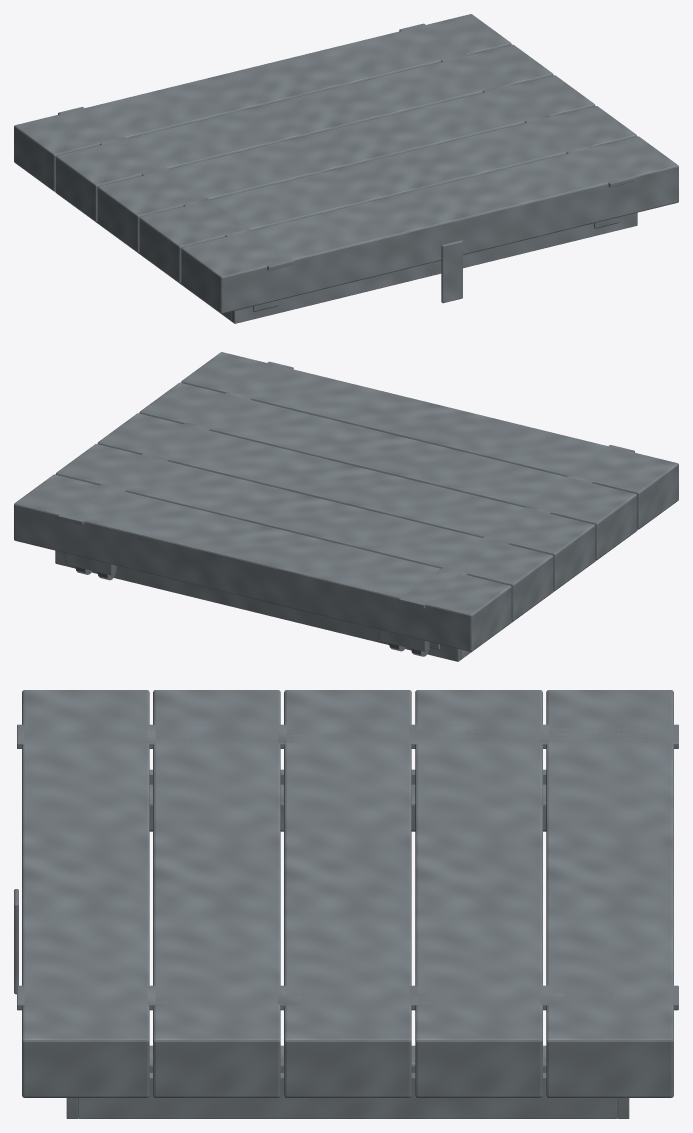
The model's file is chest_steel_lid.glb.
The picture shows the model from 3 angles, top to bottom: view 1: azimuth 30°, elevation 25°; view 2: azimuth 150°, elevation 25°; view 3: azimuth 270°, elevation 25°; orthographic projection. The views are drawn at different scales.
Parts seen in each view (by area): view 1: chest_steel_lid; view 2: chest_steel_lid; view 3: chest_steel_lid.
Boxes of the visible parts, <box> form: chest_steel_lid: <box>14,14,678,323</box>; chest_steel_lid: <box>14,352,678,661</box>; chest_steel_lid: <box>14,690,678,1118</box>.
Bounding box in the file's own units: 0.994 × 0.162 × 0.7965.
1 material, 1 textured.
